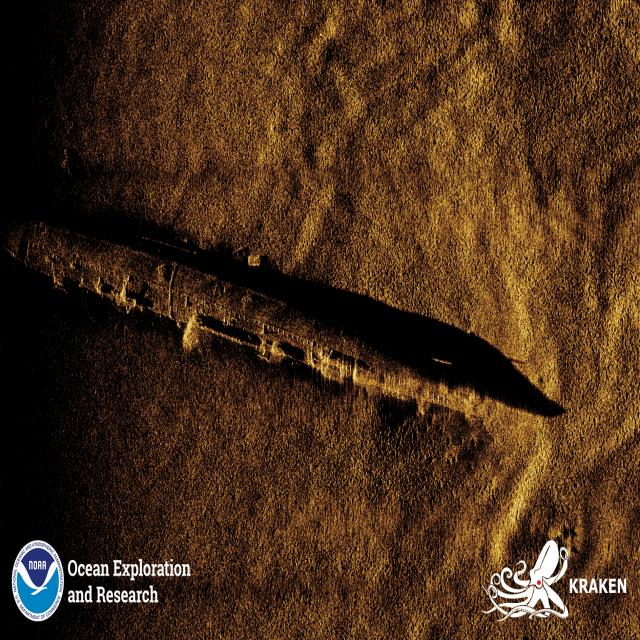ship: (8, 198, 478, 432)
